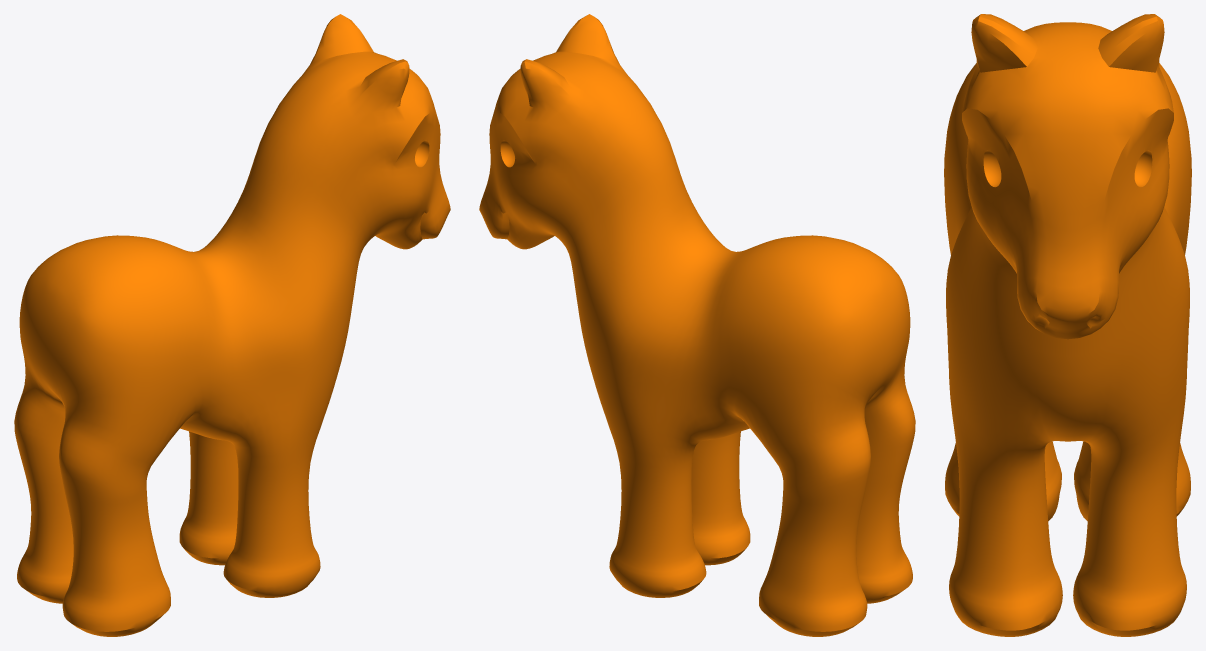
File: Horse Test.glb
3 renders of one model, left to right at view 1: azimuth 30°, elevation 25°; view 2: azimuth 150°, elevation 25°; view 3: azimuth 270°, elevation 25°, orthographic. The views are drawn at different scales.
Parts seen in each view (by area): view 1: Horse Ingame; view 2: Horse Ingame; view 3: Horse Ingame.
Part boxes in pixels (bbox=[...]): Horse Ingame: bbox=[14, 14, 450, 636]; Horse Ingame: bbox=[479, 14, 915, 636]; Horse Ingame: bbox=[944, 14, 1191, 636].
Bounding box in the file's own units: 0.0521 × 0.0612 × 0.0202.
